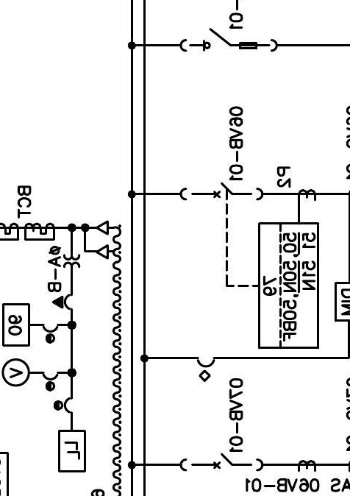22_breaker: (179, 181, 264, 201), (179, 452, 264, 472)
22_ds: (180, 28, 278, 53)
LL: (57, 429, 87, 473)
terminator_double: (83, 220, 109, 260)
v_m: (1, 358, 31, 388)
